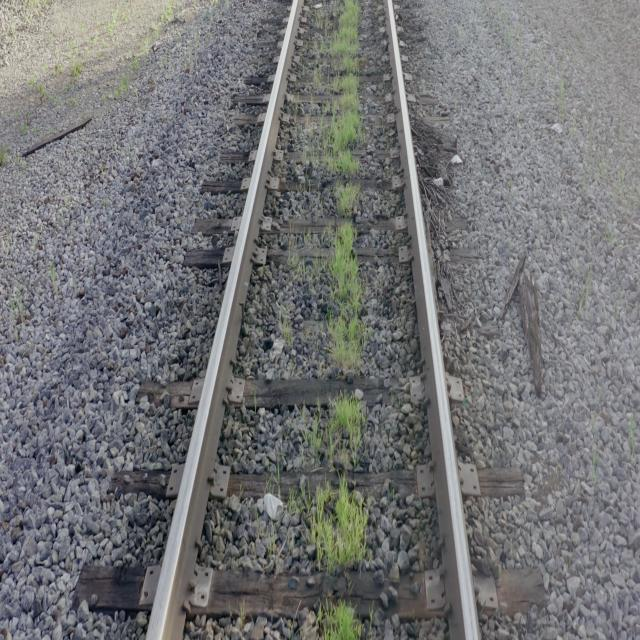Plant: (329, 182, 368, 371), (325, 0, 361, 178), (311, 480, 368, 571), (330, 393, 364, 462), (322, 600, 361, 640), (320, 602, 361, 640)
